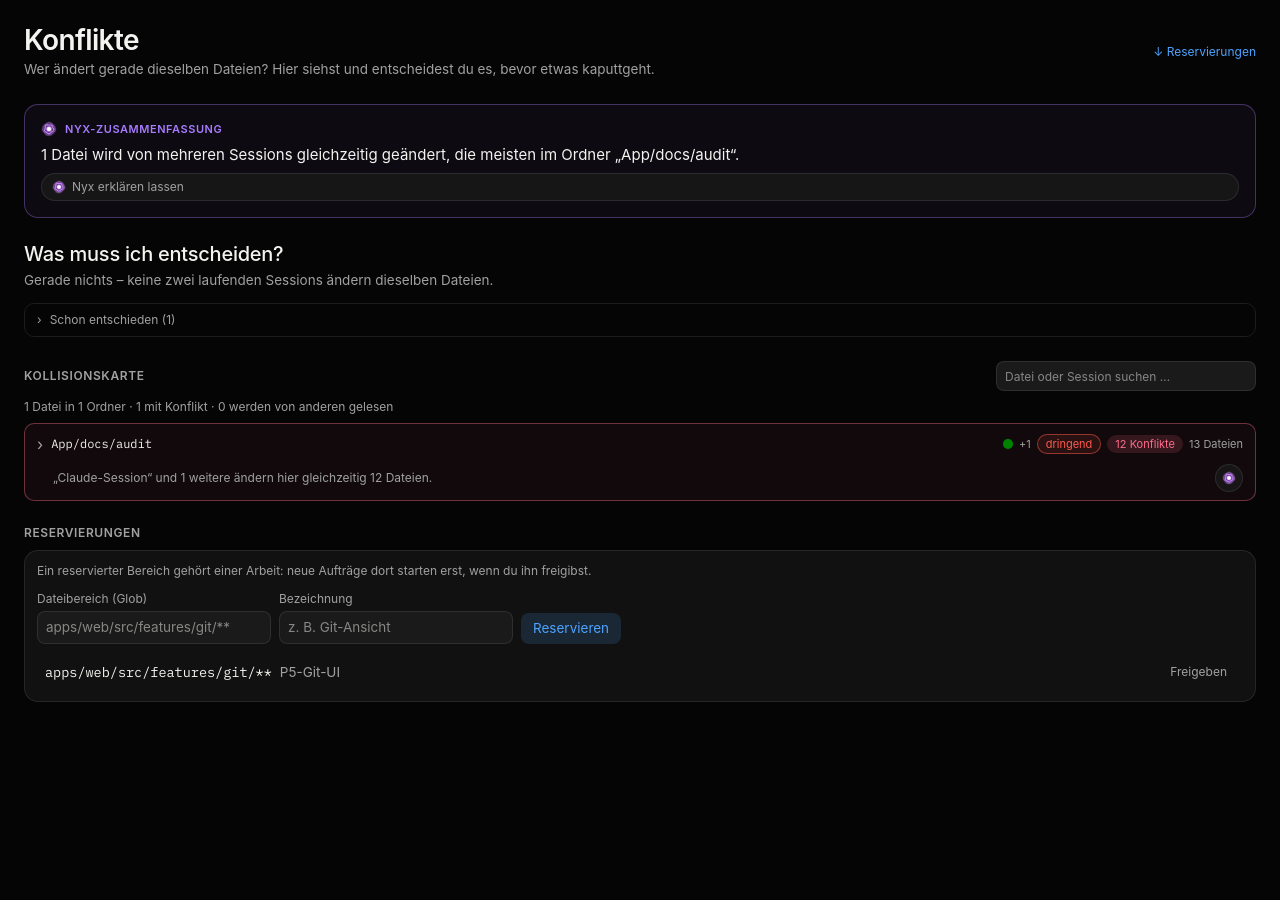
Test: Reservierungen aufheben, „zuerst“-Knöpfe, Suche mit Tipp-Pause › eine FREMDE Reservierung (z. B. eines Auftrags) lässt sich hier nicht aufheben
Click the button "› Schon entschieden (1)" at (113,319), box [25,304,1255,336]
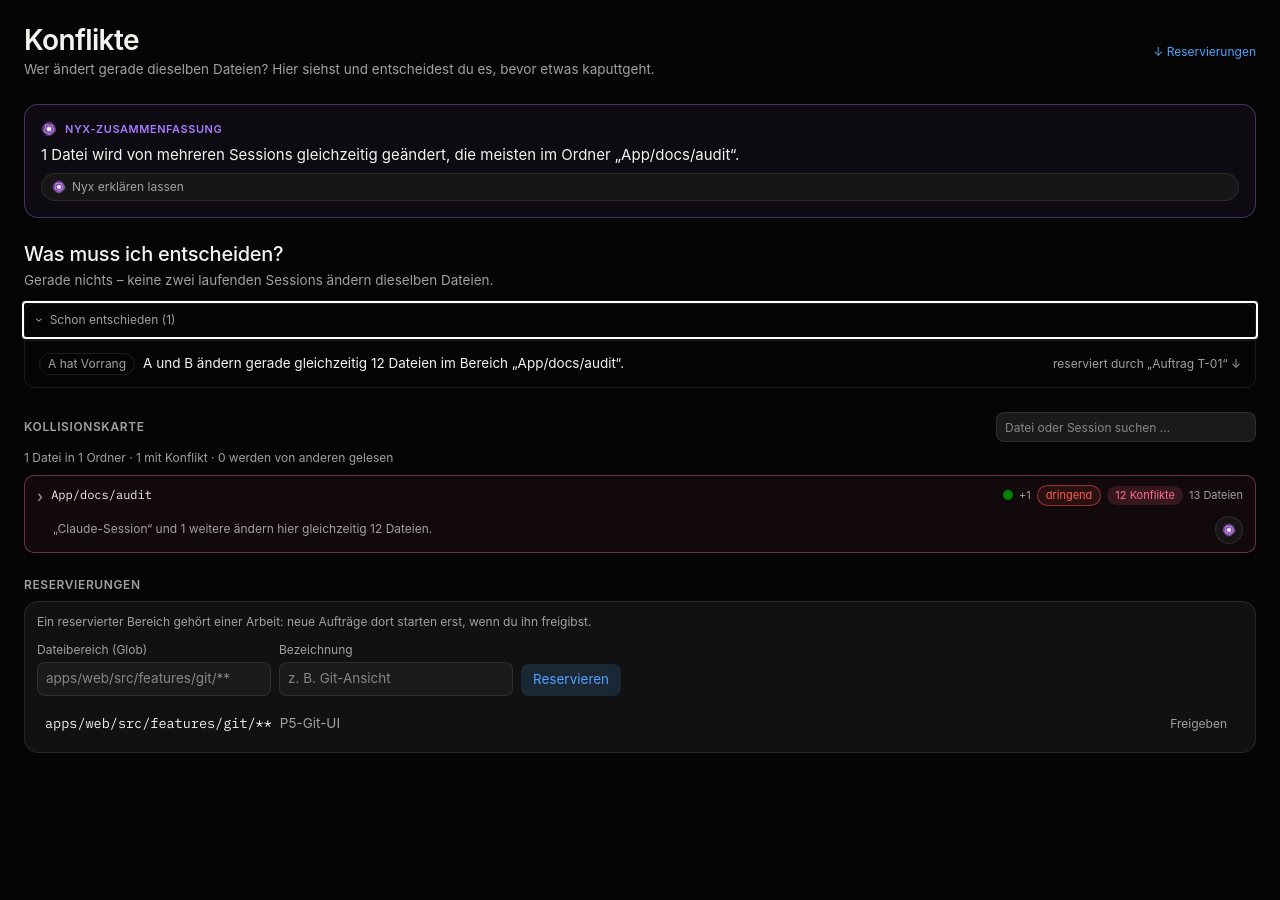
Expected: the link "reserviert durch „Auftrag T-01“ ↓" is shown, [1053,356,1241,372]
